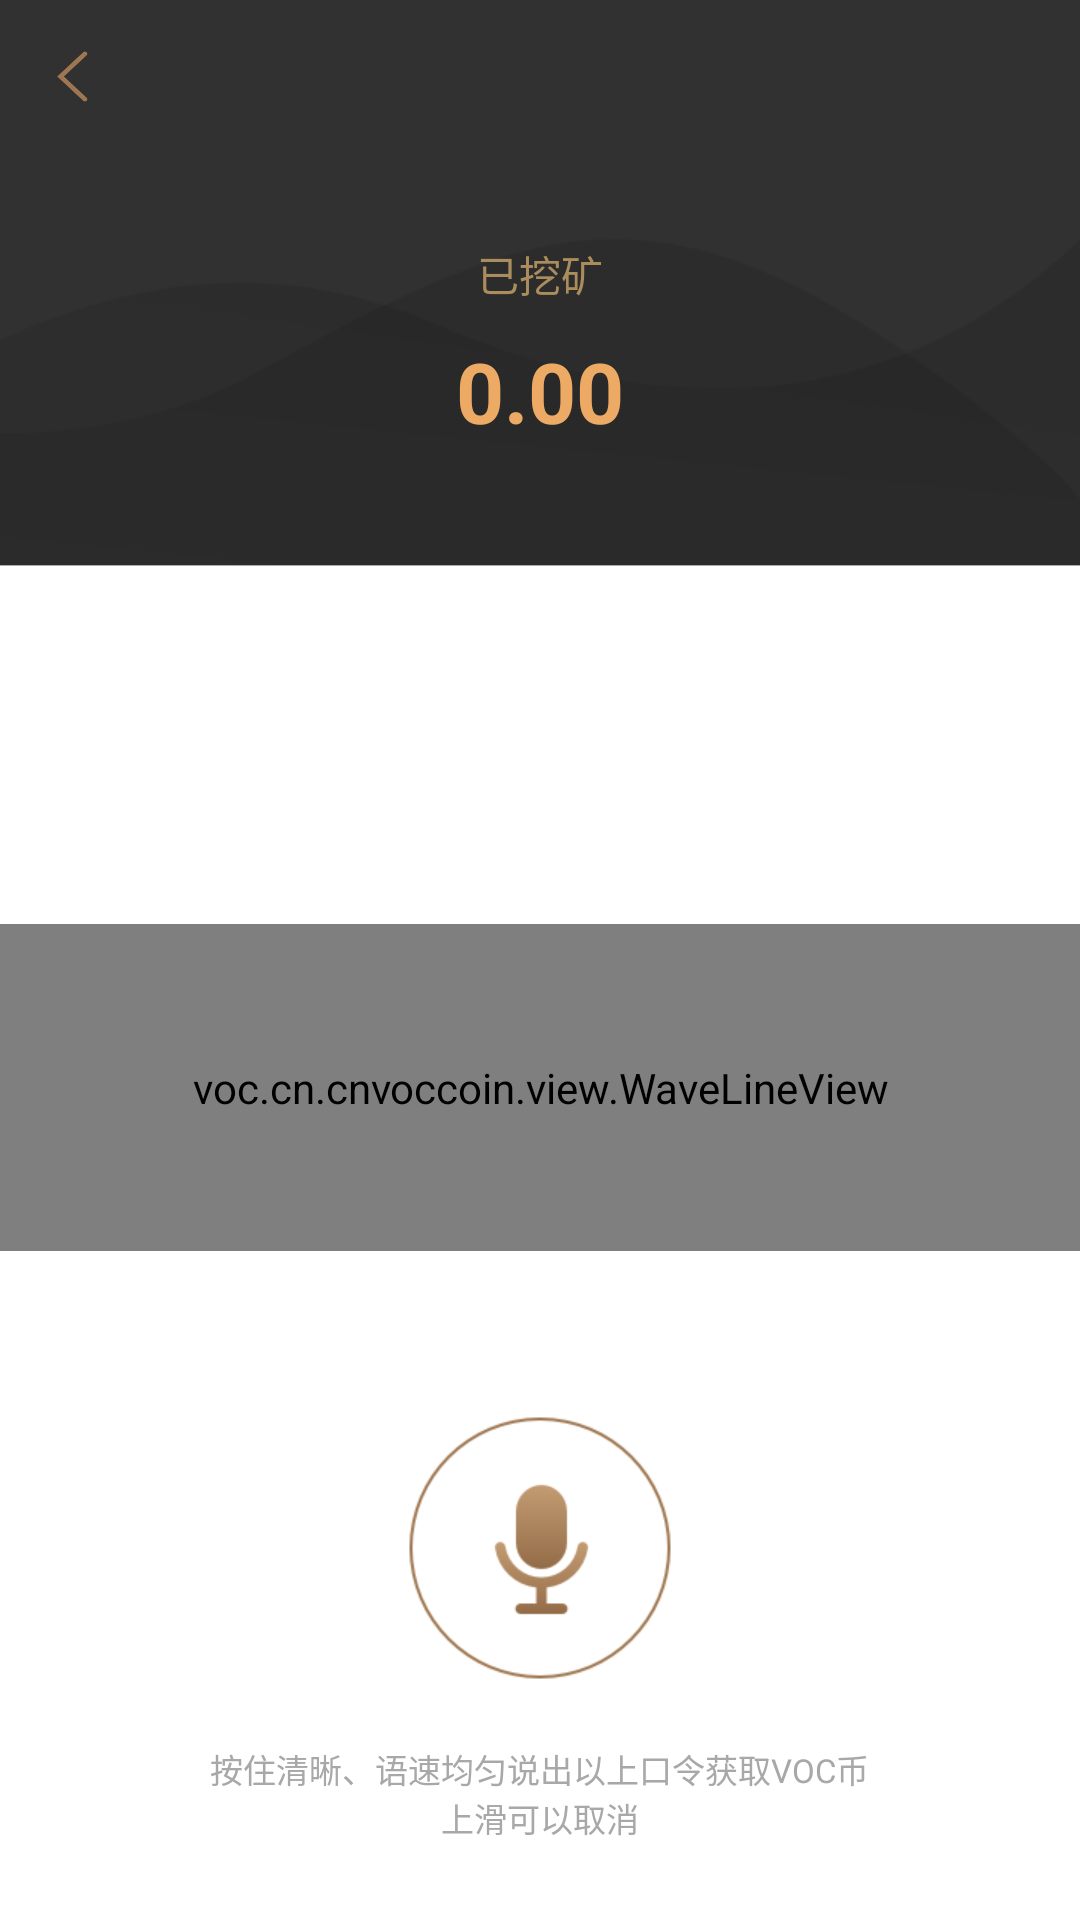

Locate icon controls on the screen. Image size 1080px×1920px, boxes as {"left": x1, "top": y1, "right": x2, "bottom": y2}.
voice: {"left": 409, "top": 1417, "right": 671, "bottom": 1679}
